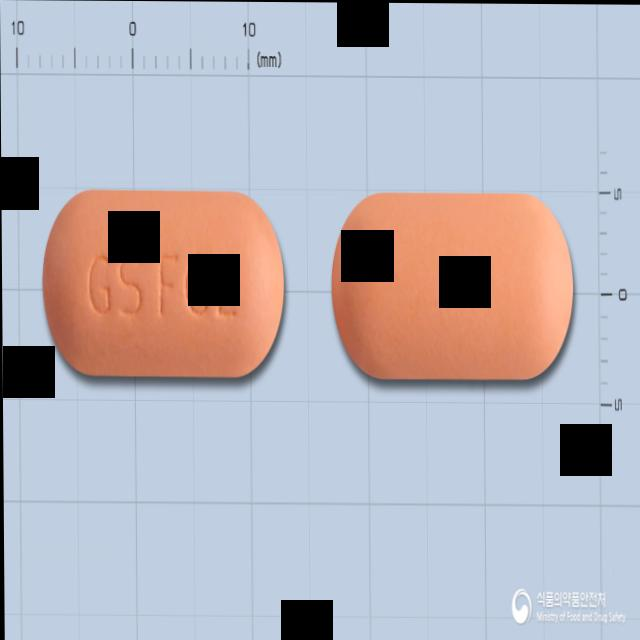Kivexa: (40, 188, 288, 379), (330, 190, 575, 381)
